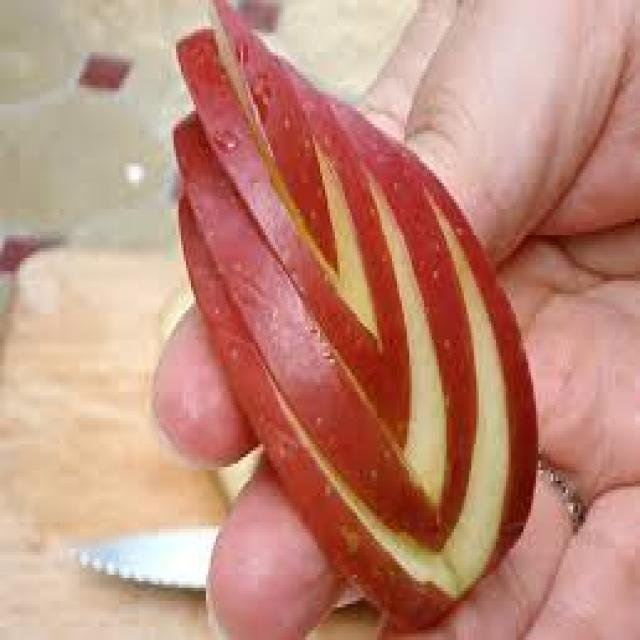Apple: (165, 2, 547, 628)
